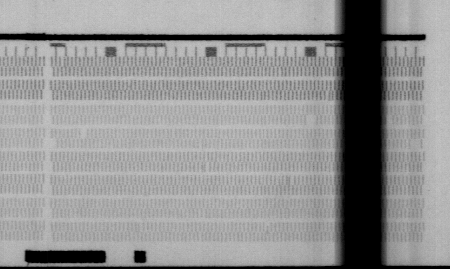Broken hole: (407, 138, 425, 151), (303, 115, 320, 127), (78, 127, 91, 140), (50, 140, 60, 150)
Oblique printing: (261, 221, 274, 236), (200, 162, 213, 174), (285, 174, 298, 186)
